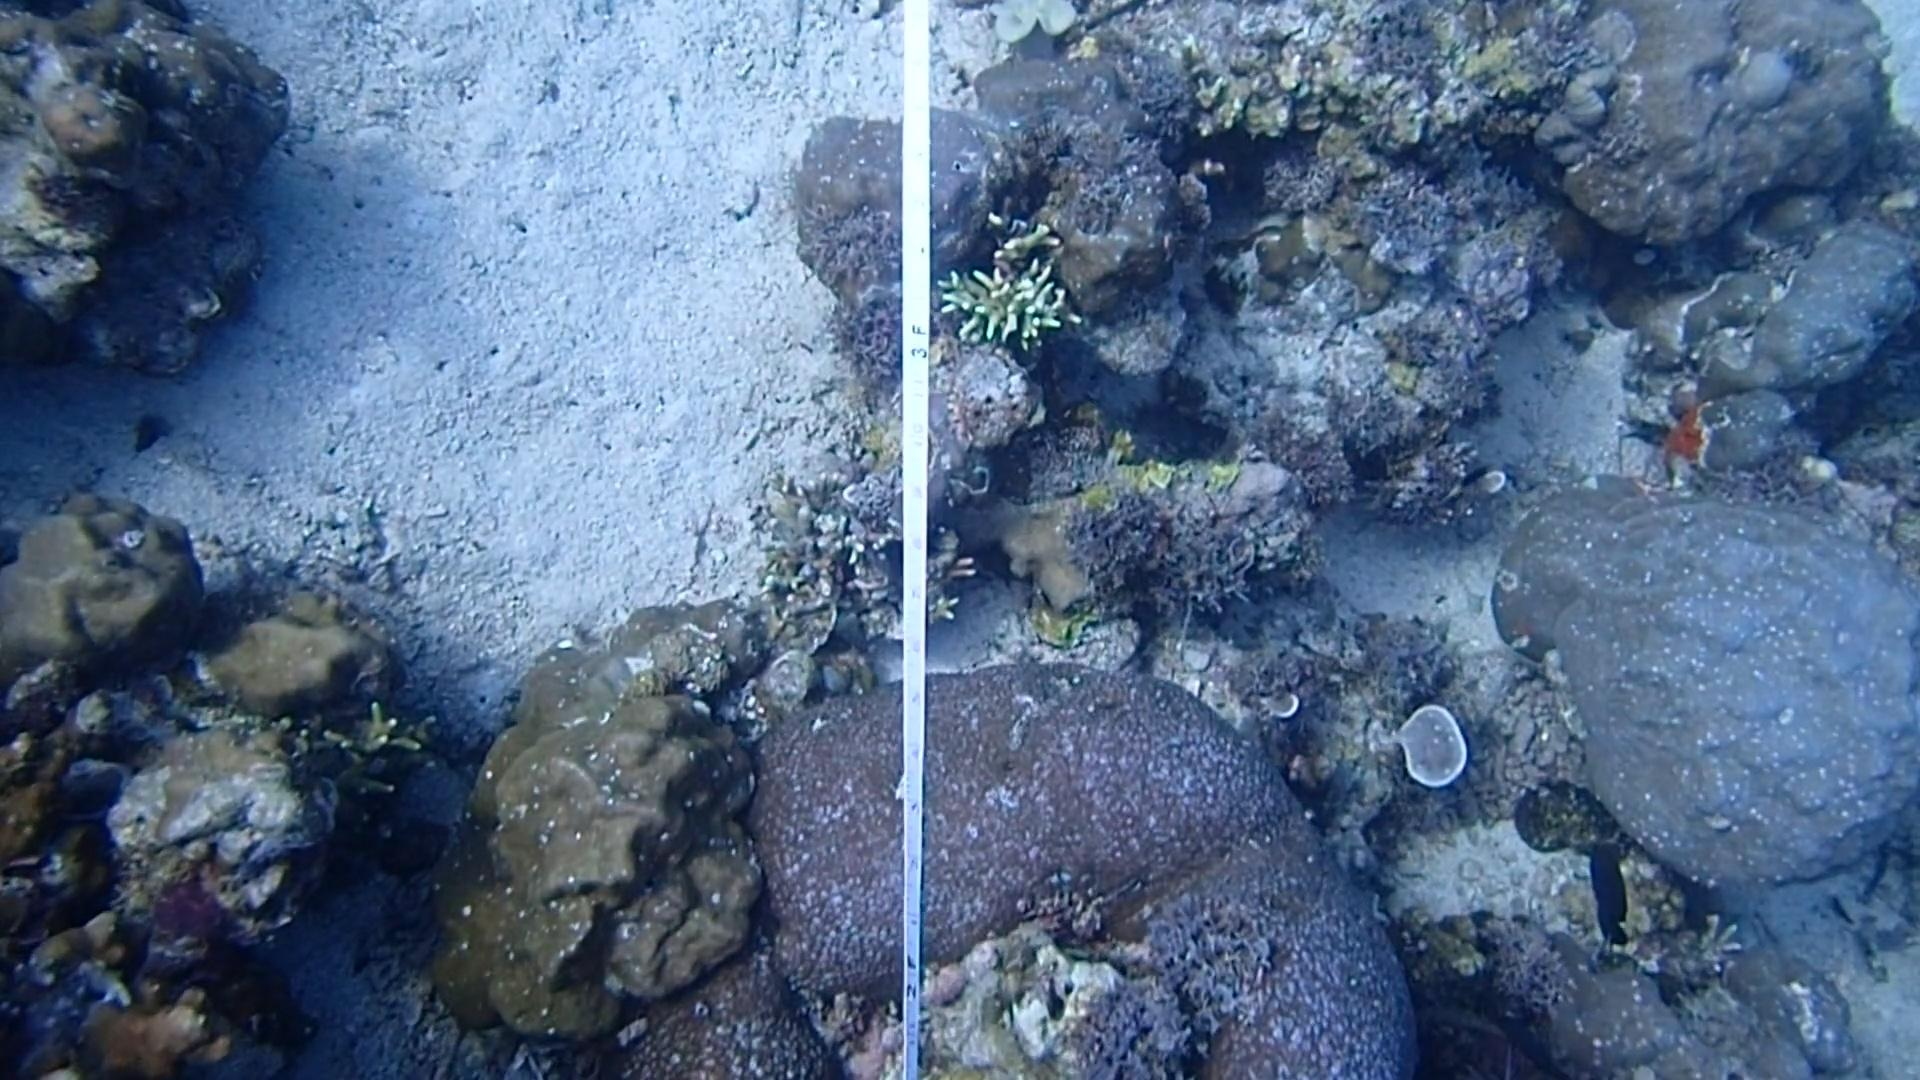Dark Fish: (1576, 831, 1642, 957)
